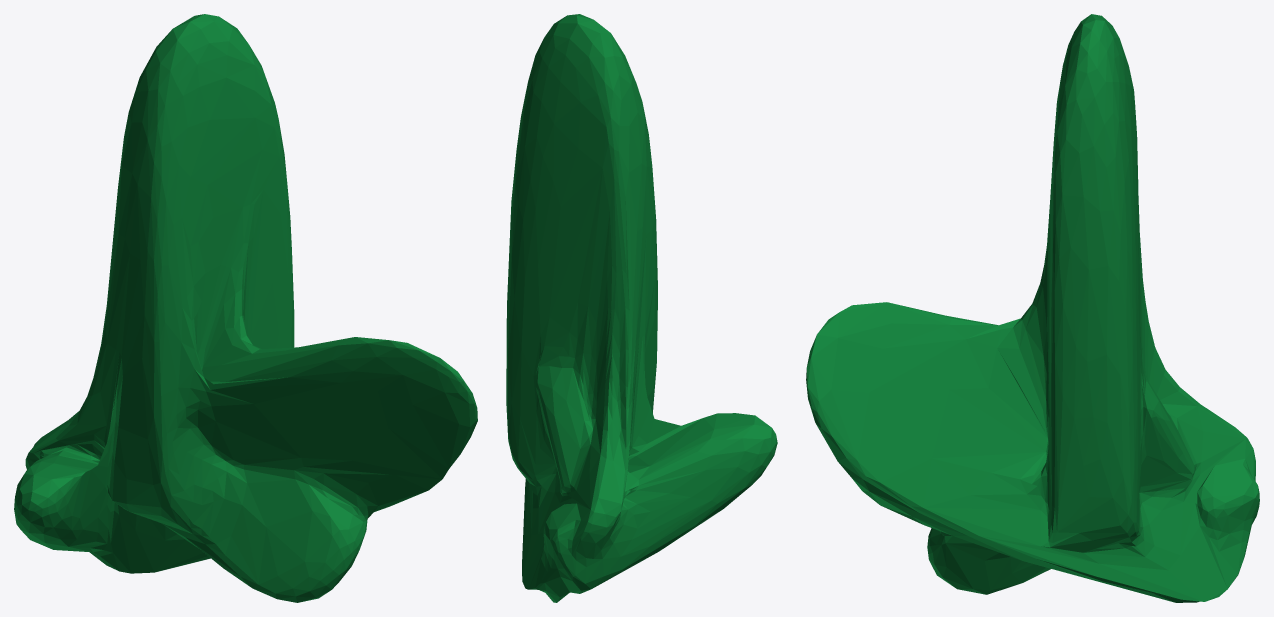
The picture shows the model from 3 angles, left to right: view 1: azimuth 30°, elevation 25°; view 2: azimuth 150°, elevation 25°; view 3: azimuth 270°, elevation 25°; orthographic projection. The views are drawn at different scales.
Parts seen in each view (by area): view 1: 088_Cube.363; view 2: 088_Cube.363; view 3: 088_Cube.363.
Part boxes in pixels (left/top/right/bottom): 088_Cube.363: left=14, top=14, right=477, bottom=602; 088_Cube.363: left=506, top=14, right=777, bottom=602; 088_Cube.363: left=806, top=14, right=1259, bottom=602.
Bounding box in the file's own units: 8.13 × 13.42 × 9.3.
